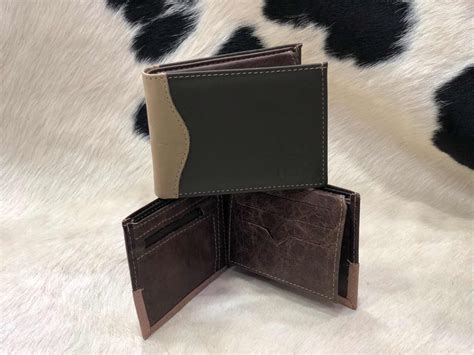cuero: (119, 49, 365, 343)
